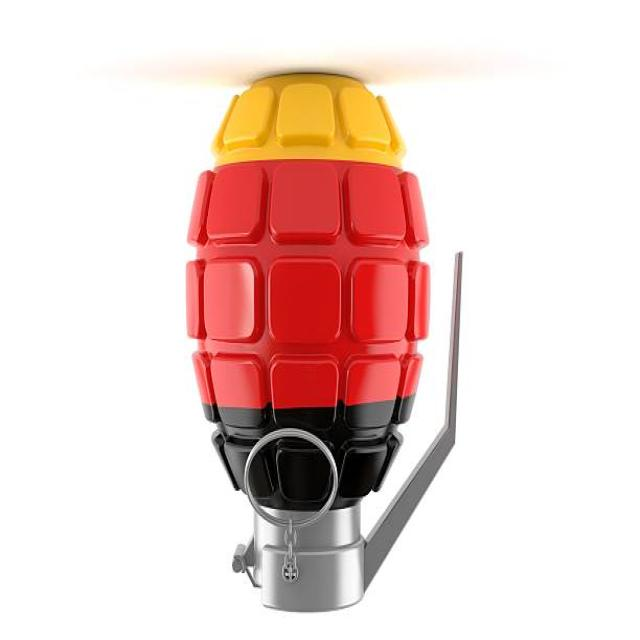grenade: (180, 63, 470, 618)
